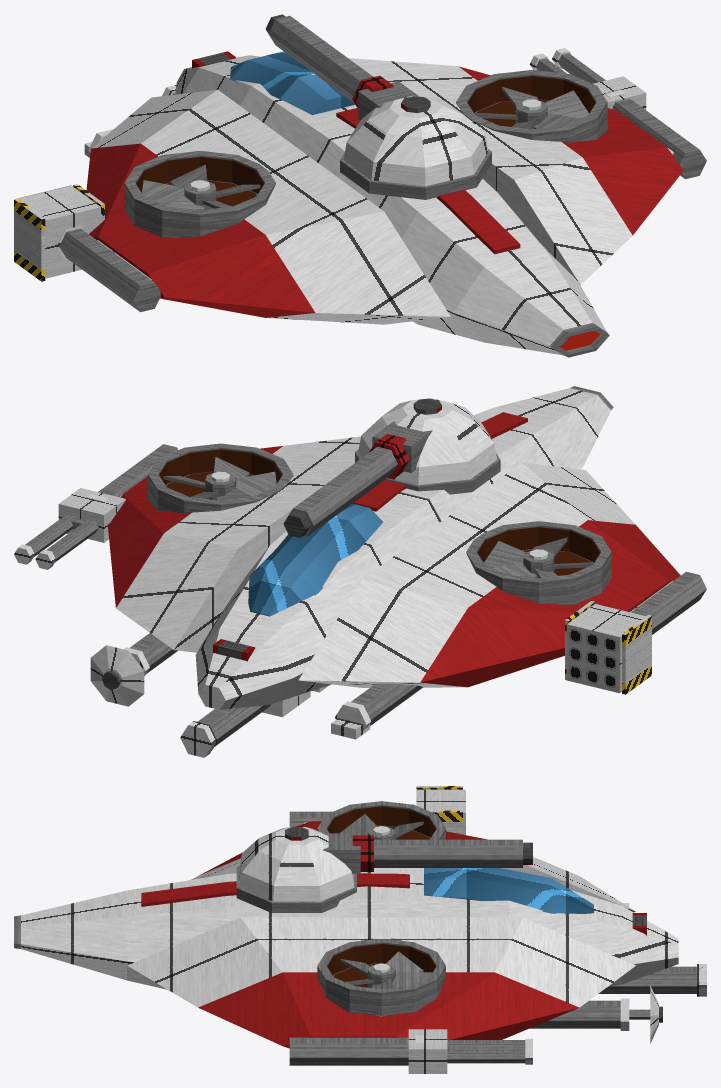
File: stingray.glb
3 views of the same model, one above another, from view 1: azimuth 30°, elevation 25°; view 2: azimuth 150°, elevation 25°; view 3: azimuth 270°, elevation 25° (orthographic). The views are drawn at different scales.
Parts seen in each view (by area): view 1: wing_inner, body, wing_outer, wing_inner.001, tail, turret_dome, wing_outer.001, fan_duct, canopy, fan_duct.001, tip_pod, lance (+15 smaller); view 2: wing_inner, body, wing_inner.001, wing_outer, canopy, turret_dome, fan_duct, wing_outer.001, tail, lance, fan_duct.001, rack_face (+22 smaller); view 3: wing_inner.001, body, wing_outer.001, tail, turret_dome, canopy, fan_duct.001, lance, tip_pod.001, spine_stripe, barrel, wing_inner (+14 smaller).
Part boxes in pixels (x1=…): wing_inner: x1=91, y1=89, x2=450, y2=324; body: x1=175, y1=55, x2=575, y2=342; wing_outer: x1=86, y1=143, x2=315, y2=317; wing_inner.001: x1=348, y1=58, x2=632, y2=284; tail: x1=453, y1=252, x2=606, y2=355; turret_dome: x1=343, y1=95, x2=488, y2=186; wing_outer.001: x1=458, y1=66, x2=683, y2=235; fan_duct: x1=124, y1=150, x2=275, y2=238; canopy: x1=229, y1=51, x2=354, y2=115; fan_duct.001: x1=456, y1=70, x2=607, y2=142; tip_pod: x1=59, y1=228, x2=160, y2=312; lance: x1=268, y1=15, x2=373, y2=102; wing_inner: x1=299, y1=462, x2=635, y2=687; body: x1=195, y1=407, x2=583, y2=709; wing_inner.001: x1=116, y1=436, x2=360, y2=652; wing_outer: x1=420, y1=520, x2=680, y2=687; canopy: x1=248, y1=503, x2=383, y2=616; turret_dome: x1=358, y1=398, x2=497, y2=485; fan_duct: x1=466, y1=521, x2=611, y2=604; wing_outer.001: x1=108, y1=446, x2=282, y2=607; tail: x1=494, y1=388, x2=610, y2=465; lance: x1=286, y1=447, x2=397, y2=536; fan_duct.001: x1=148, y1=443, x2=293, y2=513; rack_face: x1=566, y1=625, x2=619, y2=693; wing_inner.001: x1=127, y1=917, x2=635, y2=1016; body: x1=127, y1=868, x2=678, y2=989; wing_outer.001: x1=198, y1=972, x2=579, y2=1048; tail: x1=21, y1=890, x2=126, y2=980; turret_dome: x1=239, y1=827, x2=354, y2=901; canopy: x1=424, y1=868, x2=593, y2=913; fan_duct.001: x1=317, y1=939, x2=445, y2=1015; lance: x1=374, y1=839, x2=522, y2=867; tip_pod.001: x1=289, y1=1037, x2=408, y2=1065; spine_stripe: x1=141, y1=873, x2=409, y2=906; barrel: x1=598, y1=966, x2=696, y2=993; wing_inner: x1=191, y1=857, x2=635, y2=912.
Size of the model in its own units: 83.3 by 25.95 by 98.
Materials: 12 (12 with a texture image).
